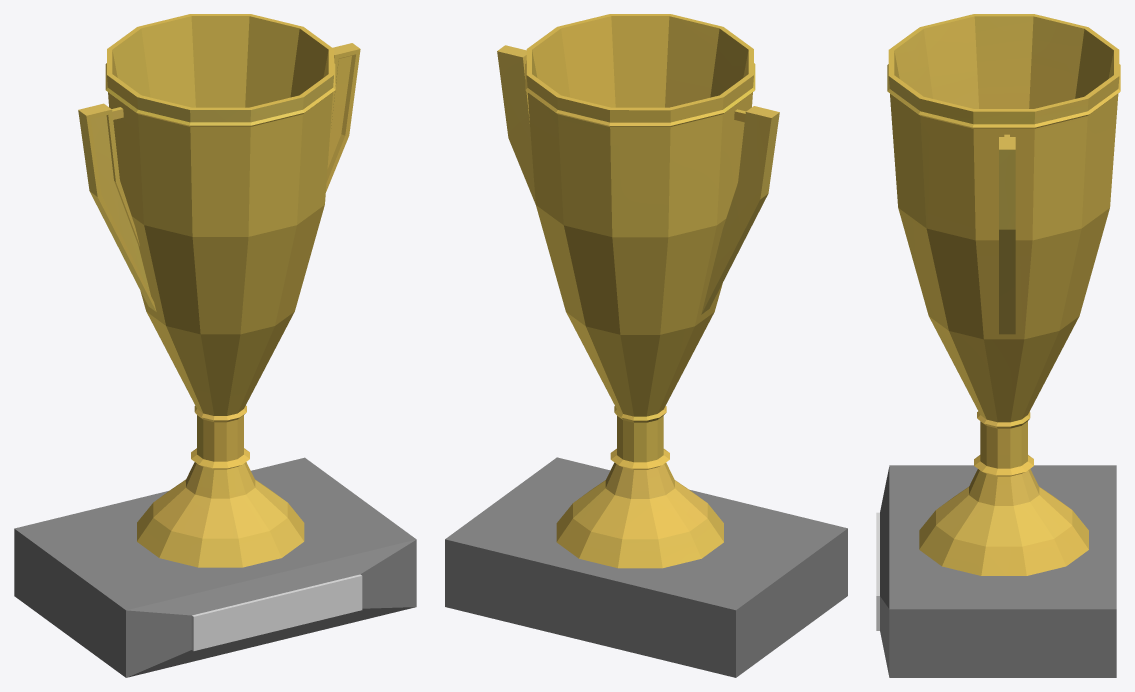
File: trophy-creativetrio_fLy8KmmD1t.glb
The picture shows the model from 3 angles, left to right: view 1: azimuth 30°, elevation 25°; view 2: azimuth 150°, elevation 25°; view 3: azimuth 270°, elevation 25°; orthographic projection.
Parts seen in each view (by area): view 1: Trophy; view 2: Trophy; view 3: Trophy.
Boxes of the visible parts, <box> form: Trophy: <box>14,14,416,677</box>; Trophy: <box>445,14,847,677</box>; Trophy: <box>876,14,1120,677</box>.
Bounding box in the file's own units: 0.1652 × 0.2923 × 0.1186.
Materials: 1 (1 with a texture image).
